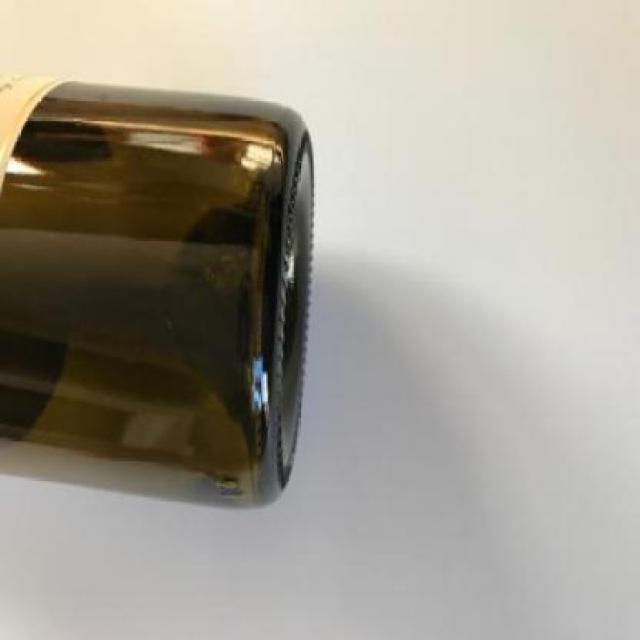kaca: (0, 67, 312, 510)
